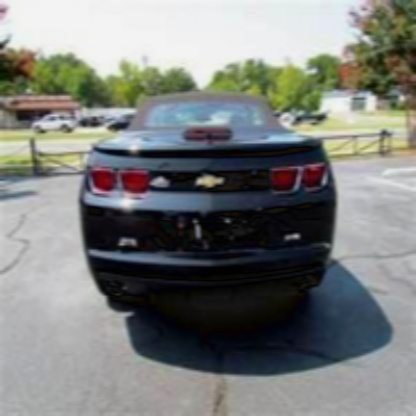Vehicle: (80, 90, 340, 312)
